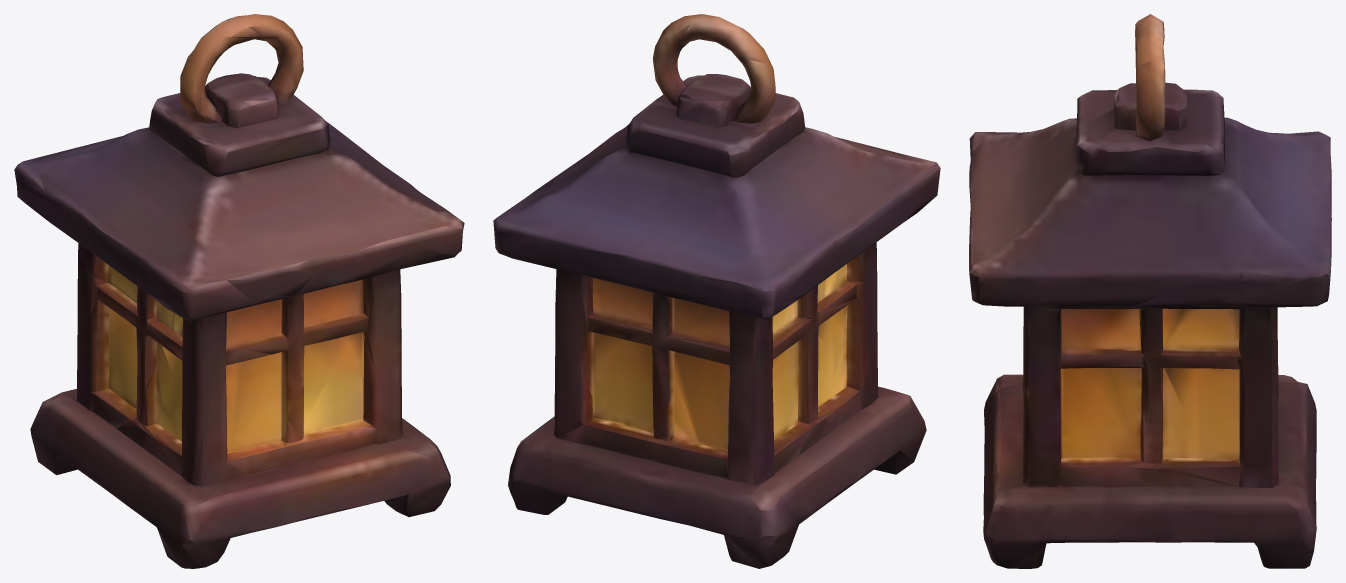
File: deco19.glb
The picture shows the model from 3 angles, left to right: view 1: azimuth 30°, elevation 25°; view 2: azimuth 150°, elevation 25°; view 3: azimuth 270°, elevation 25°; orthographic projection. The views are drawn at different scales.
Size of the model in its own units: 0.1567 by 0.2473 by 0.1675.
1 material, 1 textured.
